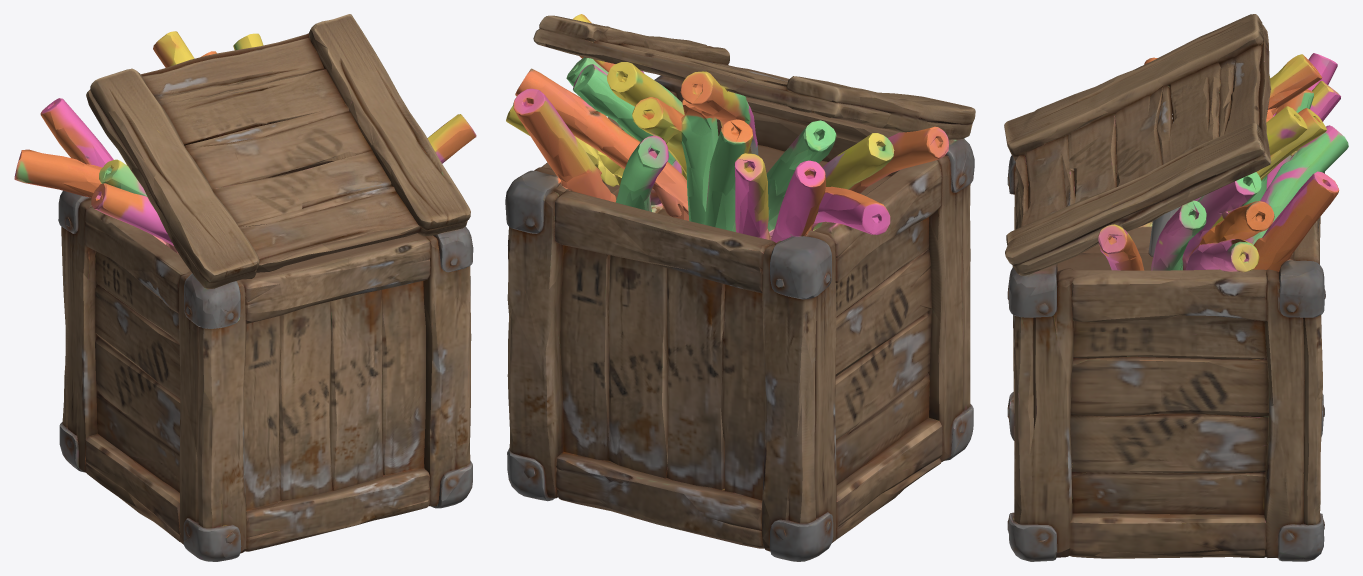
The model's file is cassa_tubi.glb.
The picture shows the model from 3 angles, left to right: view 1: azimuth 30°, elevation 25°; view 2: azimuth 150°, elevation 25°; view 3: azimuth 270°, elevation 25°; orthographic projection. The views are drawn at different scales.
Parts seen in each view (by area): view 1: Mesh_0; view 2: Mesh_0; view 3: Mesh_0.
Part boxes in pixels (x1=…): Mesh_0: x1=14, y1=14, x2=476, y2=561; Mesh_0: x1=505, y1=14, x2=975, y2=561; Mesh_0: x1=1004, y1=14, x2=1348, y2=561.
Size of the model in its own units: 1.81 by 1.9 by 1.39.
1 material, 1 textured.
